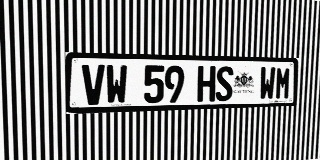5: (144, 65, 164, 103)
9: (165, 65, 184, 103)
H: (197, 66, 216, 102)
M: (275, 67, 291, 100)
S: (215, 66, 233, 101)
V: (82, 64, 105, 105)
W: (106, 65, 127, 104), (259, 67, 276, 100)
